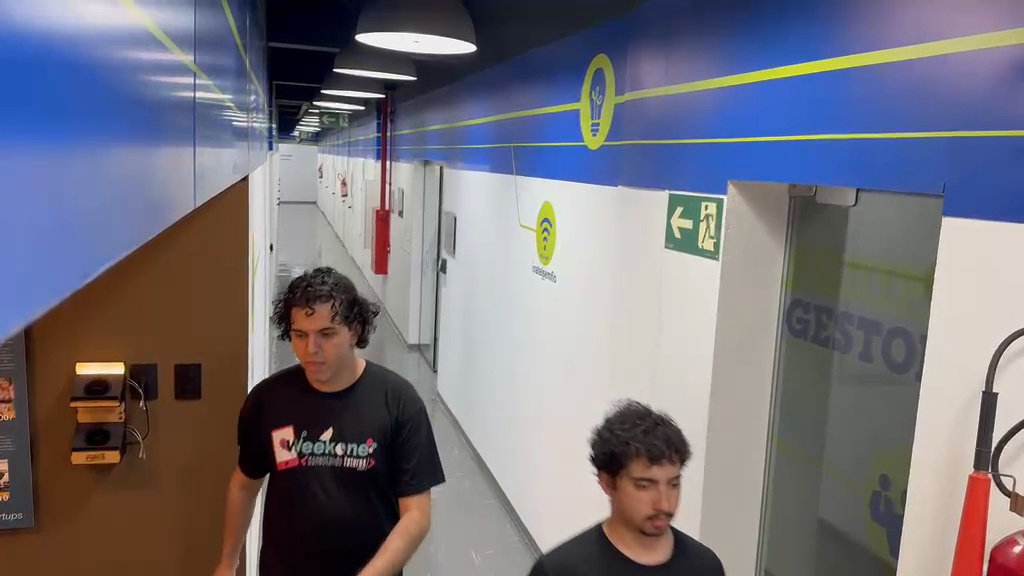person: (210, 266, 446, 574), (528, 398, 727, 575)
